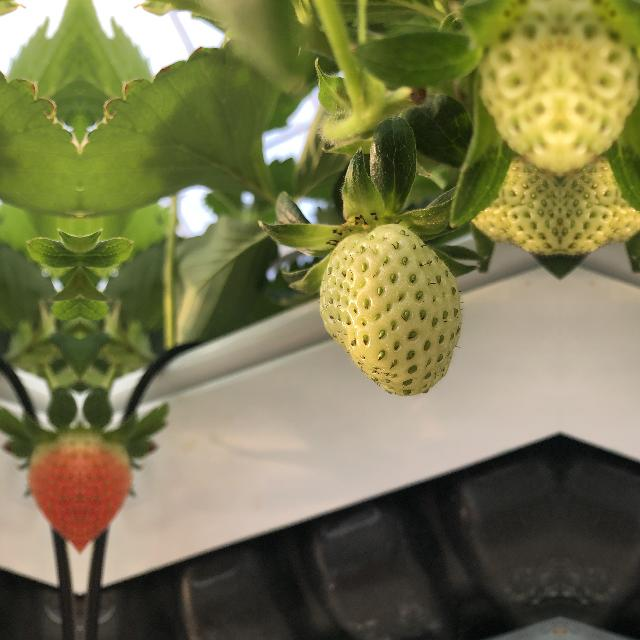Health_25: (306, 216, 468, 404), (469, 159, 559, 259), (561, 159, 640, 259)
